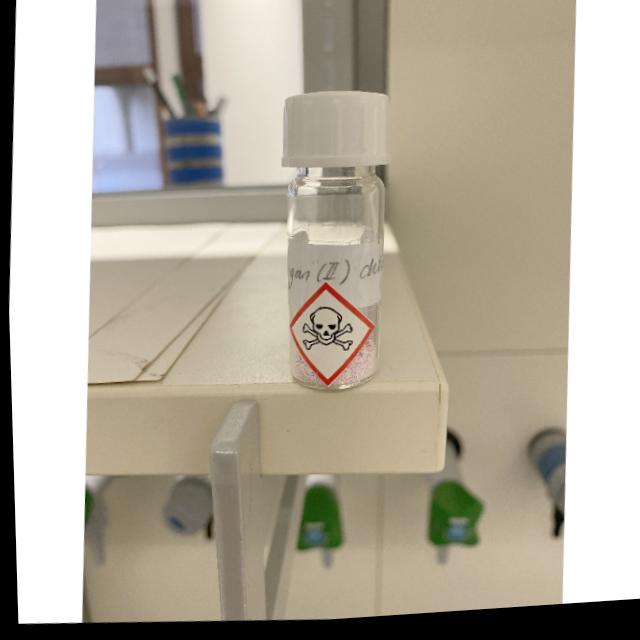acute toxicity: (298, 308, 354, 358)
